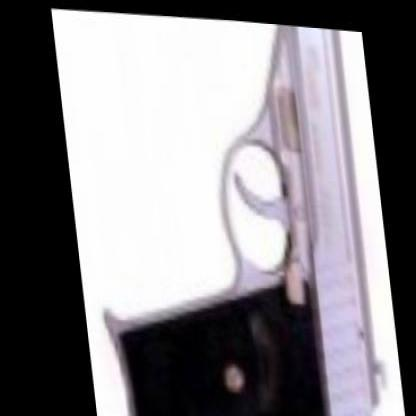pistol: (62, 4, 385, 415)
